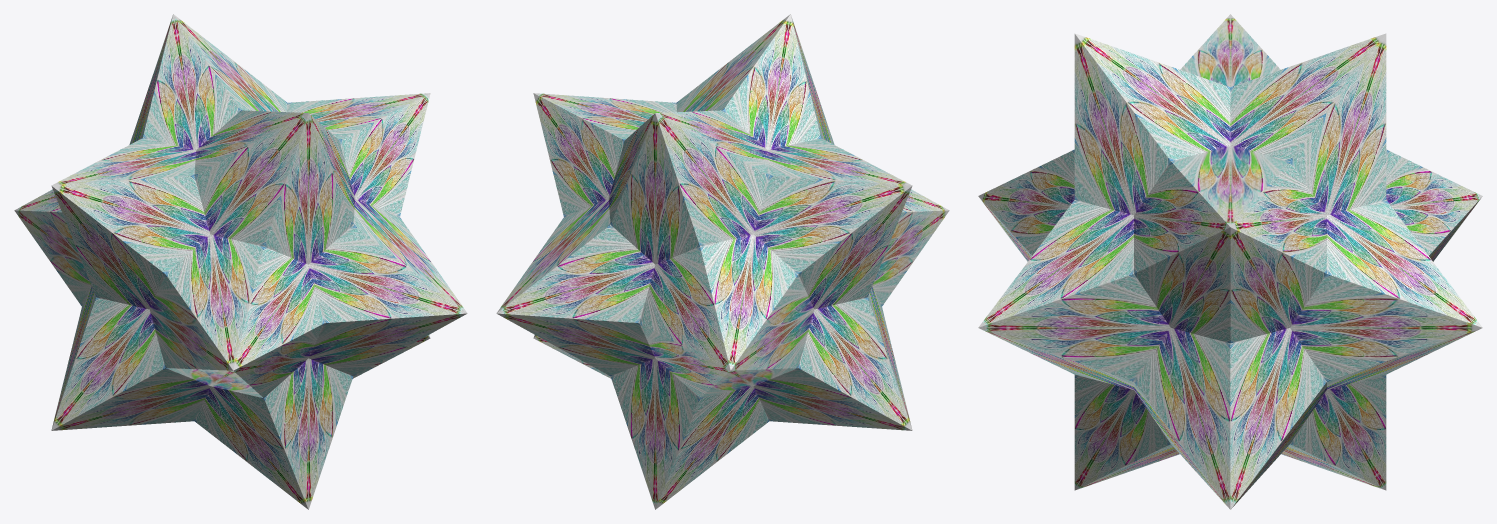
Rendered from MedialRhombicTriacontahedron8.obj.
The picture shows the model from 3 angles, left to right: view 1: azimuth 30°, elevation 25°; view 2: azimuth 150°, elevation 25°; view 3: azimuth 270°, elevation 25°; orthographic projection. The views are drawn at different scales.
Size of the model in its own units: 2.43 by 2.43 by 2.43.
Materials: 1 (1 with a texture image).
